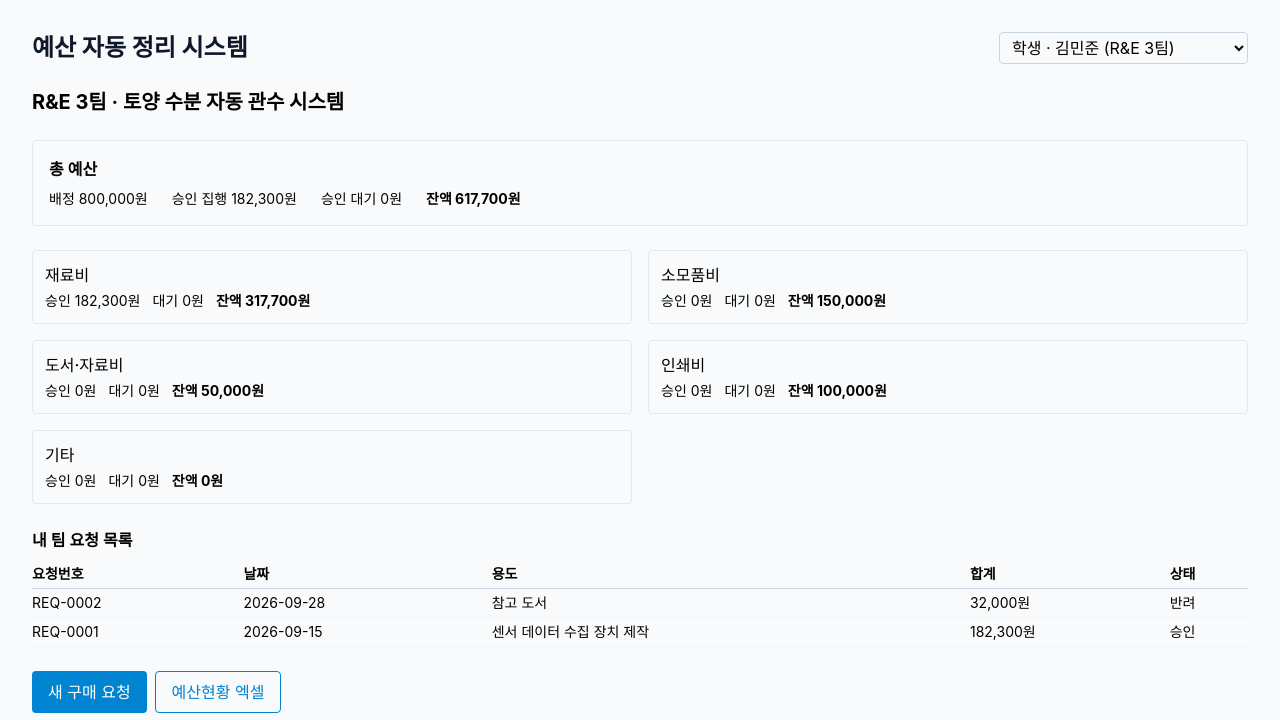
Test case: App › 역할을 학생에서 교사로 전환하면 화면이 바뀐다
This screenshot has width=1280, height=720.
Expected: the heading "R&E 3팀 · 토양 수분 자동 관수 시스템" is shown, [32,90,344,114]
Select "교사 · 최윤서" in the dropdown with test id "role-select". click: (1124, 48)
box: [999,32,1248,64]
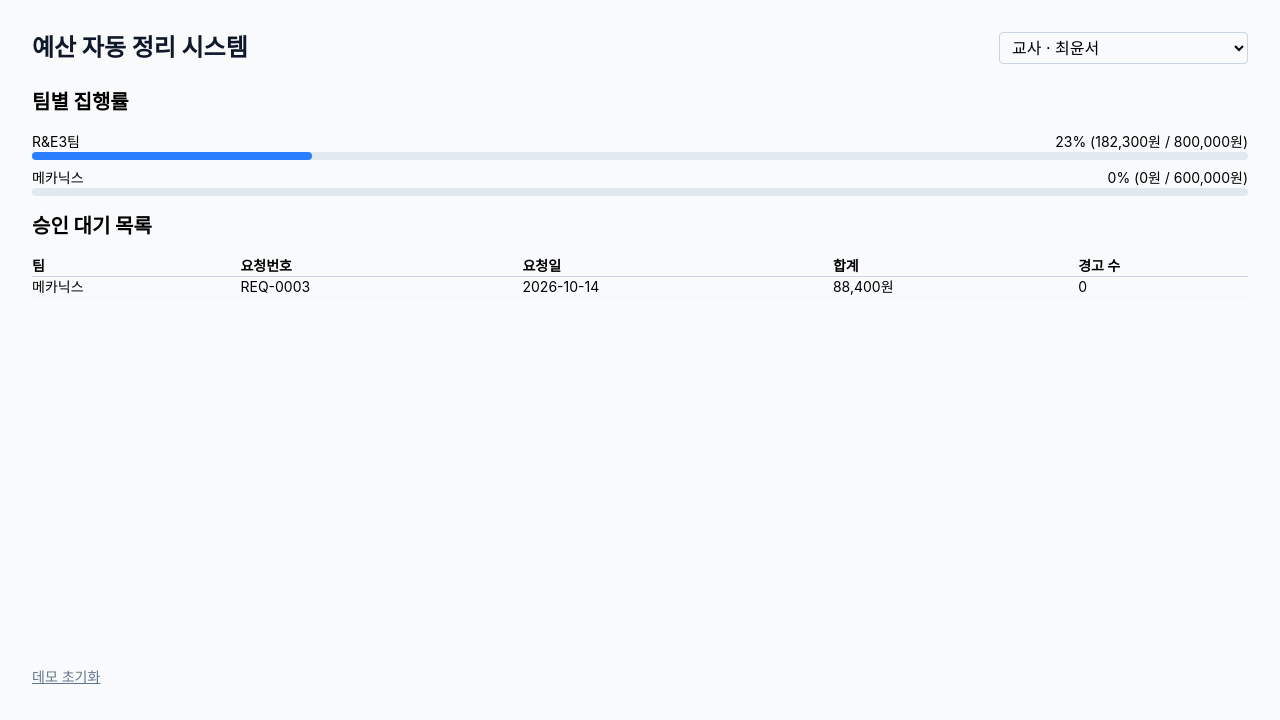
Expected: the heading "승인 대기 목록" is shown, [32,214,152,238]
Expected: the heading "R&E 3팀" is gone
